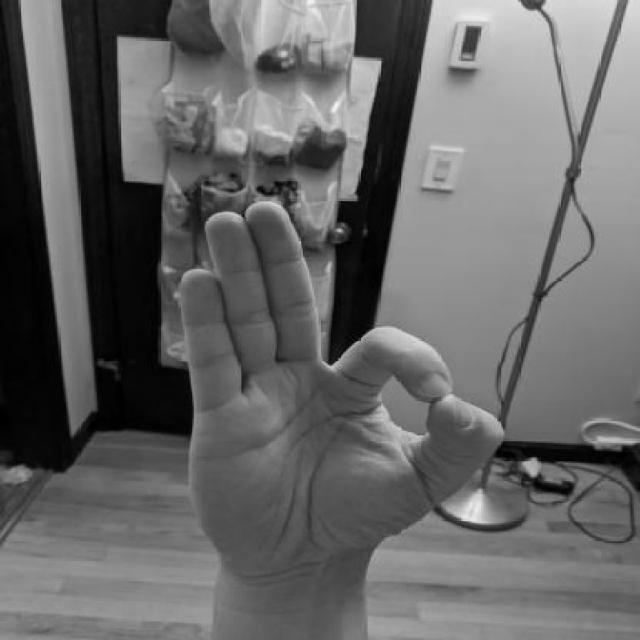F: (172, 195, 512, 569)
